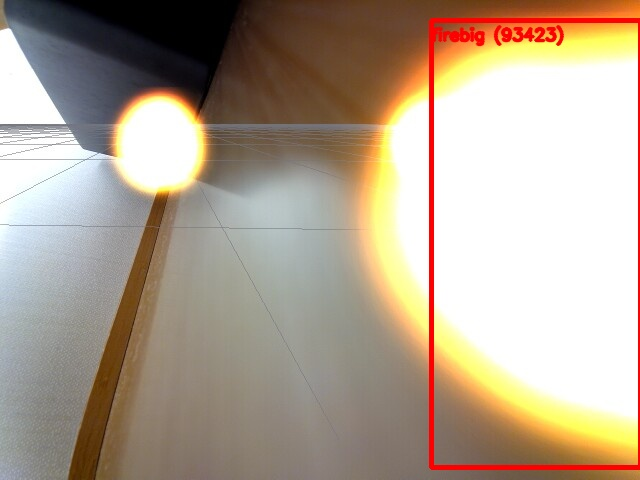firebig: (431, 20, 640, 467)
